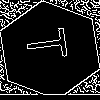T: (25, 25, 78, 62)
